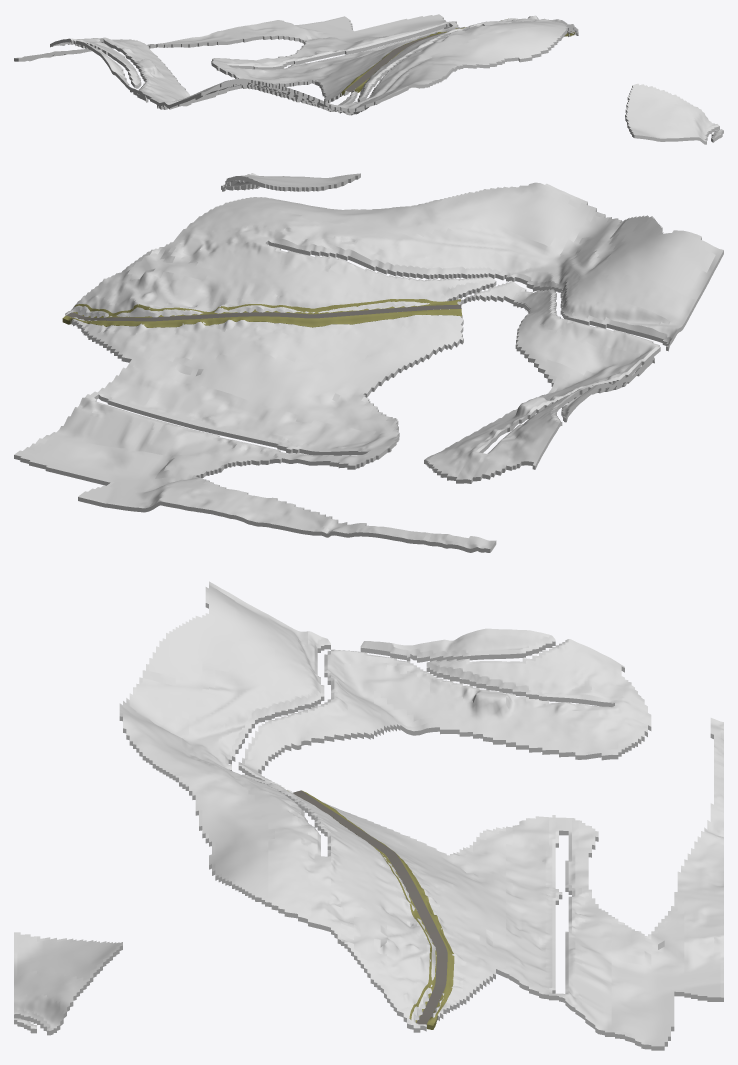
File: conz_105.glb
3 views of the same model, one above another, from view 1: azimuth 30°, elevation 25°; view 2: azimuth 150°, elevation 25°; view 3: azimuth 270°, elevation 25° (orthographic). The views are drawn at different scales.
Parts seen in each view (by area): view 1: terrain105, road105; view 2: terrain105, verge105L, road105, verge105R; view 3: terrain105, road105, verge105L, verge105R.
Boxes of the visible parts, x1,y1,x2,y2 form: terrain105: [14, 14, 723, 144]; road105: [345, 32, 445, 92]; terrain105: [14, 173, 723, 552]; verge105L: [62, 309, 461, 327]; road105: [66, 304, 461, 321]; verge105R: [73, 299, 460, 317]; terrain105: [14, 581, 723, 1050]; road105: [293, 790, 447, 1024]; verge105L: [301, 790, 454, 1029]; verge105R: [287, 790, 436, 1022].
Size of the model in its own units: 442 by 139 by 430.
